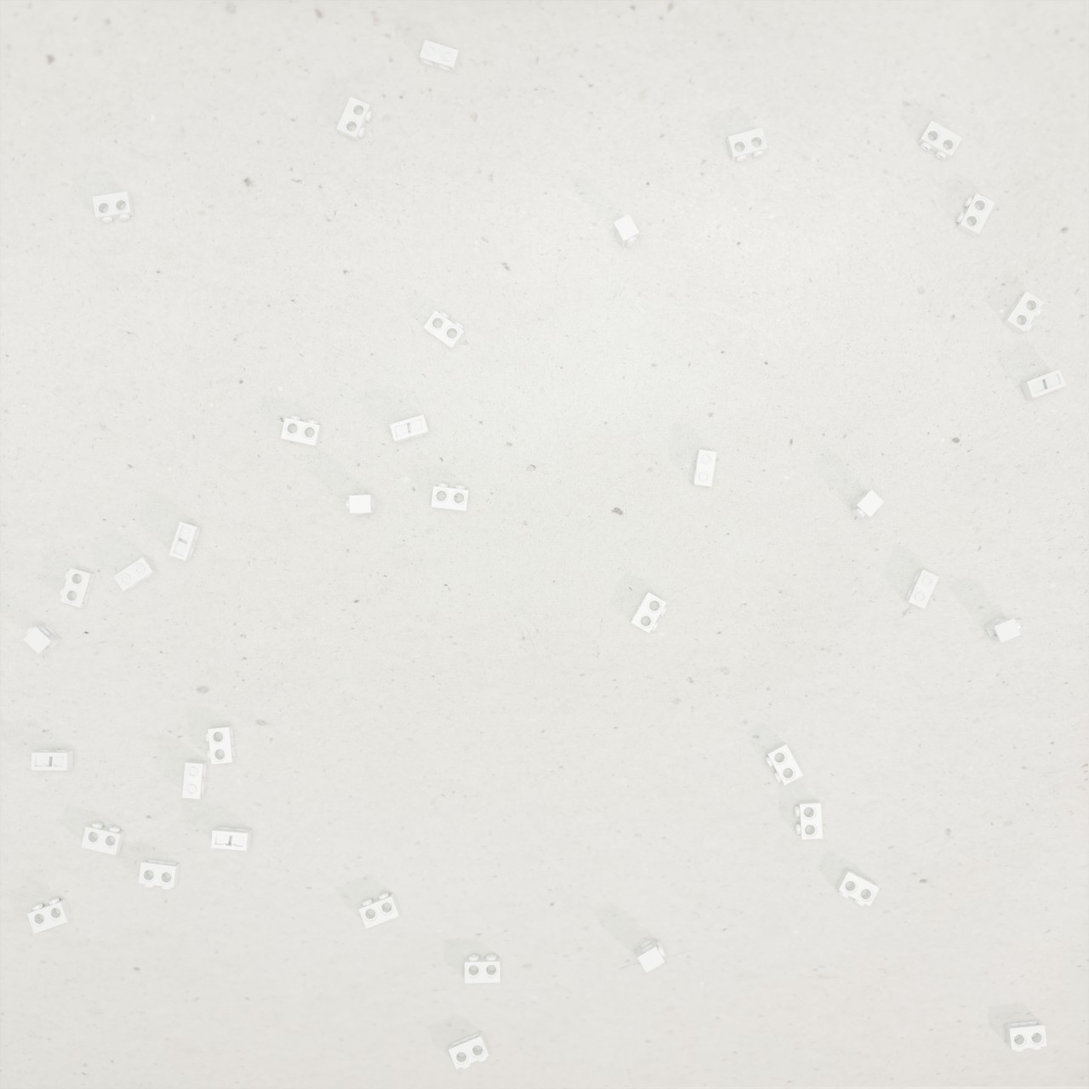lego: (1002, 291, 1044, 334), (917, 120, 962, 160), (835, 868, 880, 907), (956, 193, 995, 238), (27, 897, 73, 934), (336, 96, 373, 142), (423, 310, 465, 350), (765, 742, 803, 785), (448, 1031, 490, 1069), (359, 892, 401, 929), (113, 557, 158, 591), (630, 592, 667, 633), (59, 568, 96, 608), (726, 127, 768, 162), (81, 822, 125, 855), (1020, 369, 1066, 400), (904, 569, 939, 609), (419, 40, 460, 74), (92, 191, 135, 223), (1004, 1020, 1047, 1052), (281, 415, 322, 447), (138, 859, 180, 890), (169, 522, 201, 561), (389, 414, 430, 443), (206, 725, 236, 764), (794, 800, 823, 840), (23, 625, 62, 654), (431, 483, 469, 512), (635, 938, 666, 973), (465, 954, 501, 983), (850, 489, 885, 518), (984, 616, 1021, 643), (211, 827, 252, 851), (182, 760, 207, 799), (692, 449, 717, 488), (612, 214, 639, 248), (31, 750, 73, 771), (346, 495, 375, 514)
